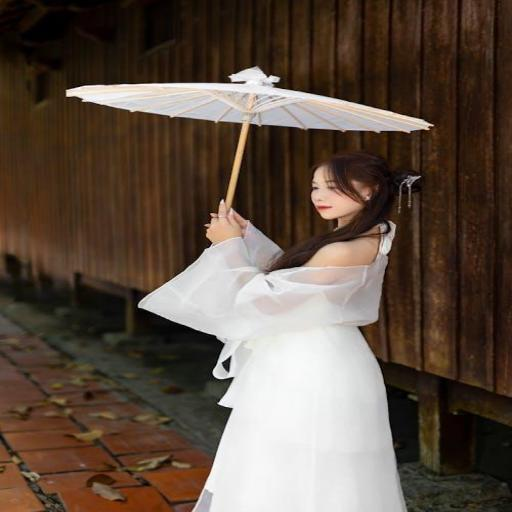guarda_chuva: (64, 65, 434, 214)
